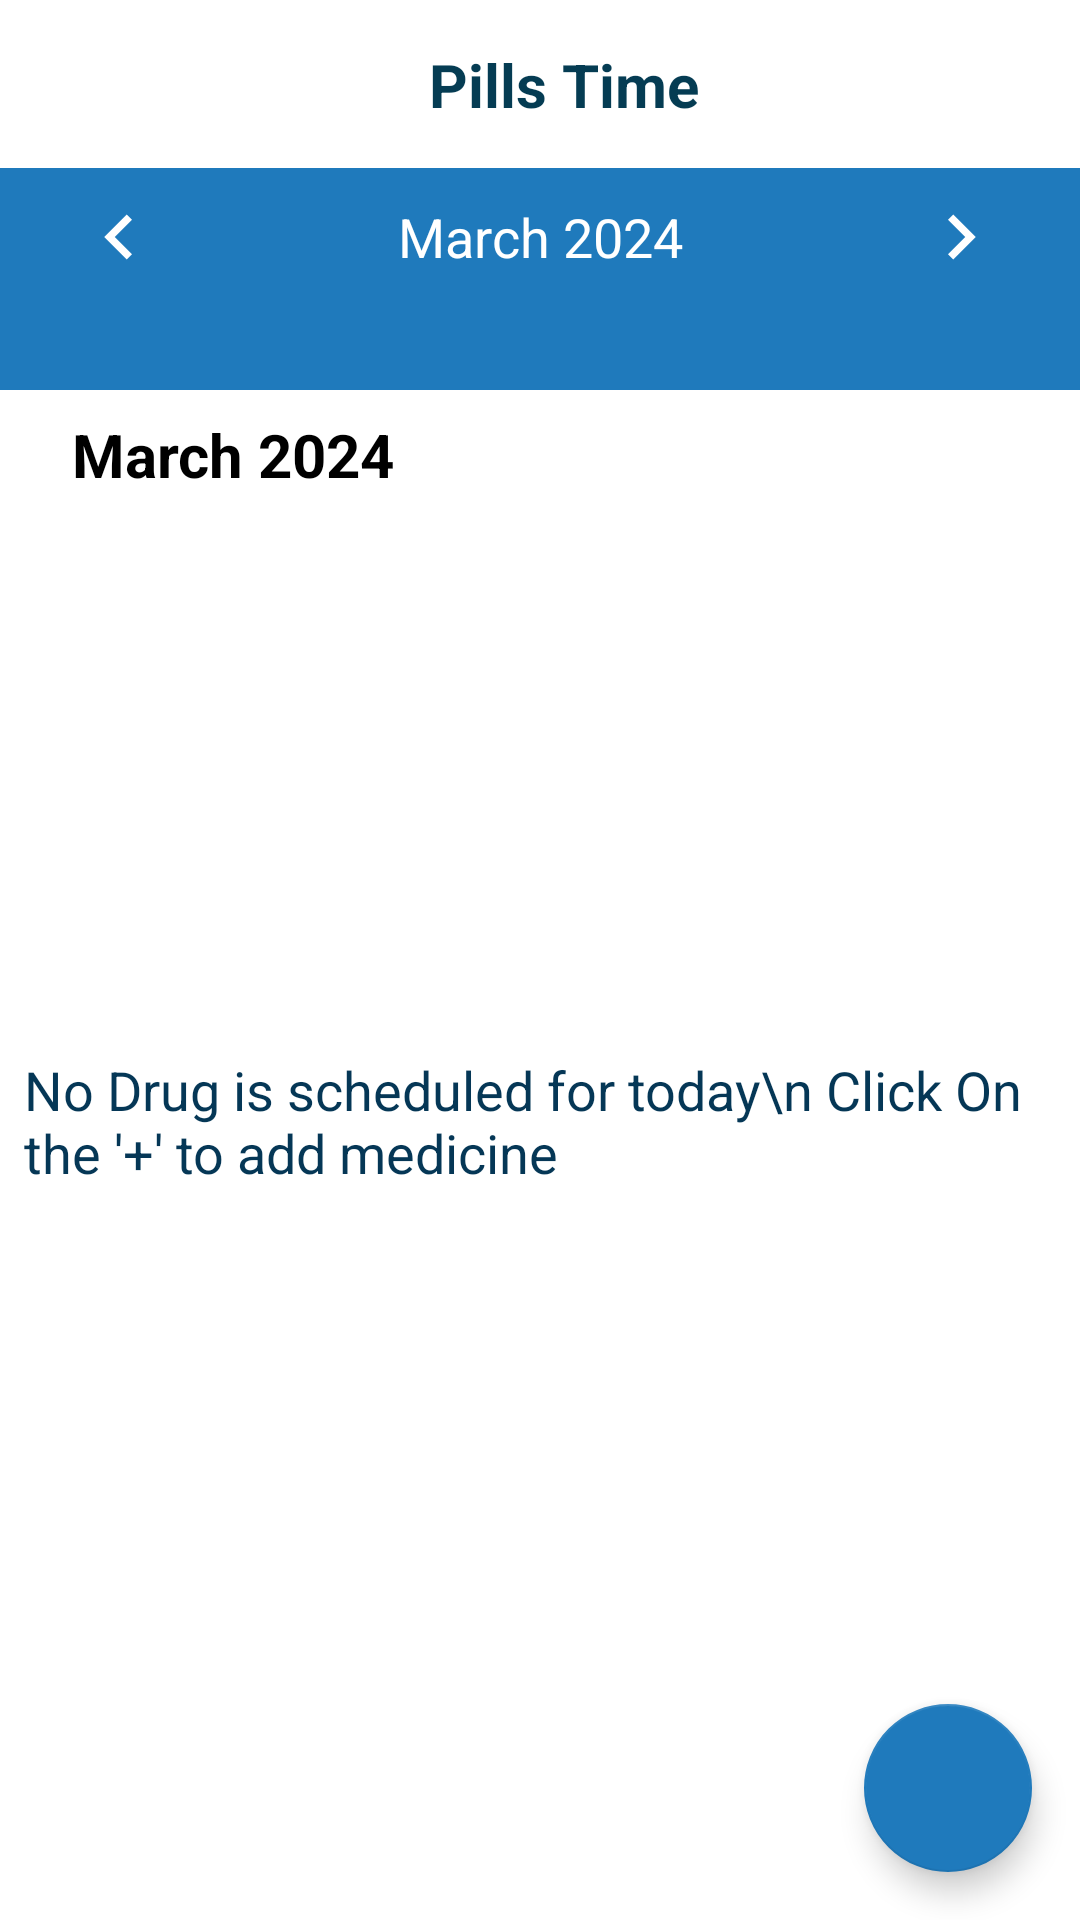

Icons on this 1080px×1920px Android screen, each with the point to tap as (x,y):
back: (118,237)
next: (962,237)
